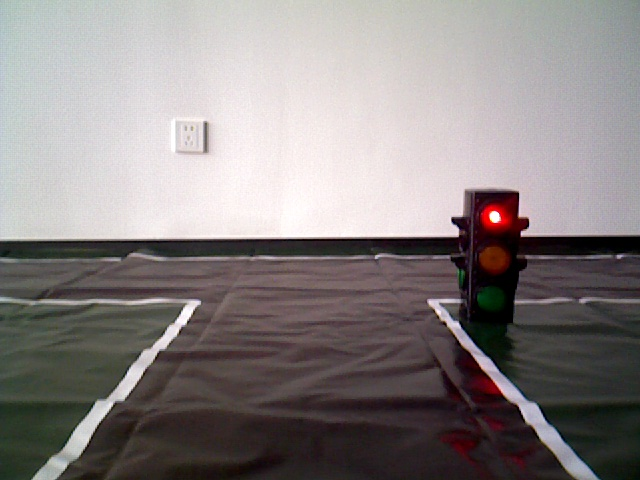red: (464, 195, 513, 322)
